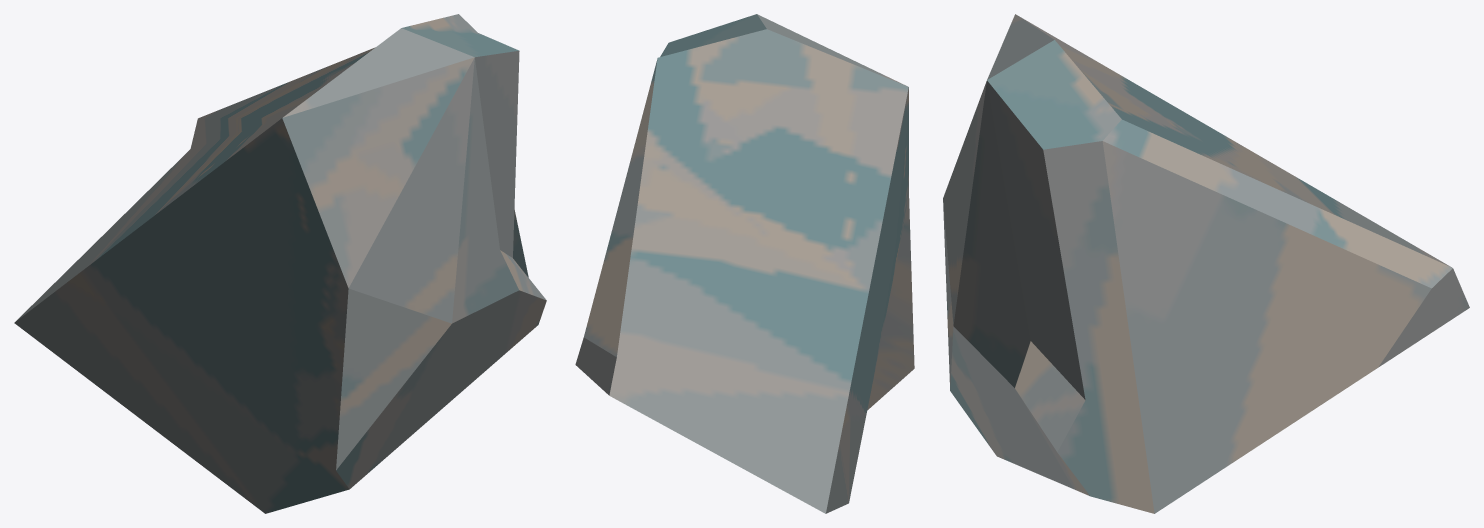
File: T_ROCK09.fbx
3 renders of one model, left to right at view 1: azimuth 30°, elevation 25°; view 2: azimuth 150°, elevation 25°; view 3: azimuth 270°, elevation 25°, orthographic. The views are drawn at different scales.
Visible parts, largest first — view 1: T_ROCK09.001; view 2: T_ROCK09.001; view 3: T_ROCK09.001.
Boxes of the visible parts, x1,y1,x2,y2 form: T_ROCK09.001: (14, 14, 546, 513); T_ROCK09.001: (575, 14, 914, 513); T_ROCK09.001: (943, 14, 1469, 513).
Size of the model in its own units: 76.7 by 91.73 by 85.11.
1 material, 1 textured.
